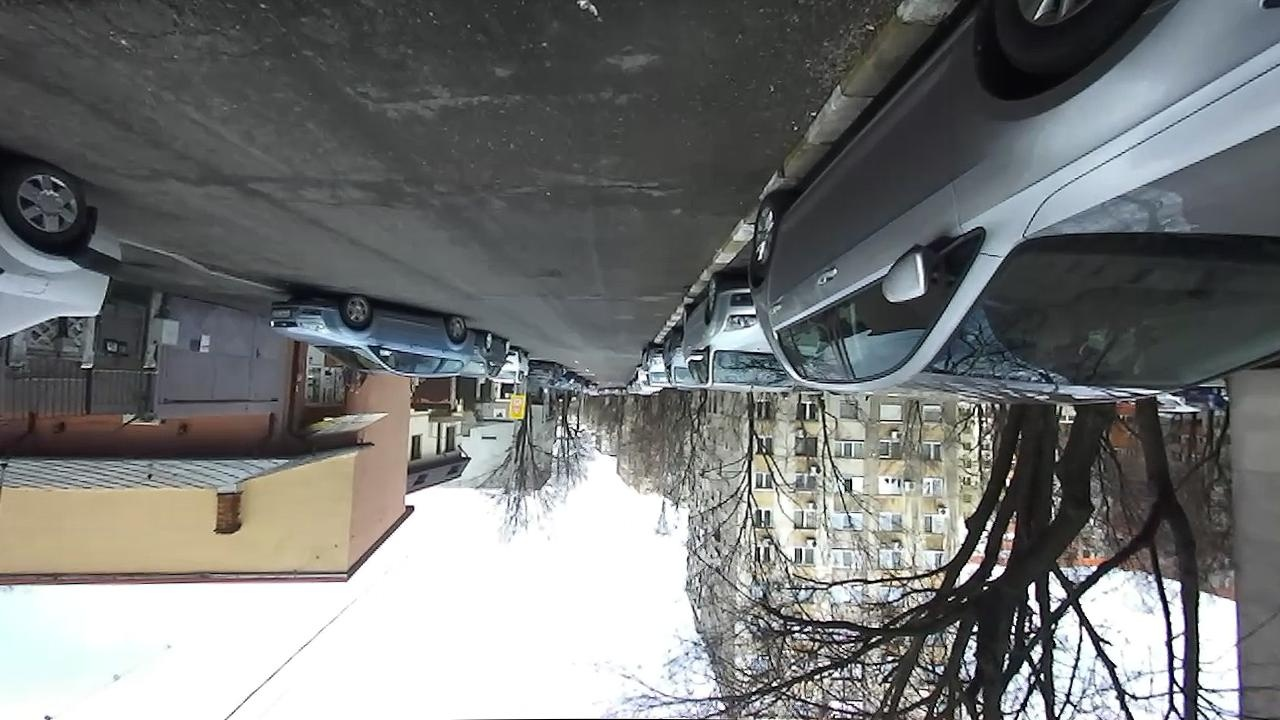pothole: (586, 169, 674, 200)
